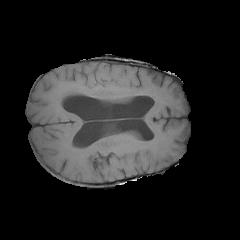glioma: (59, 82, 157, 102)
